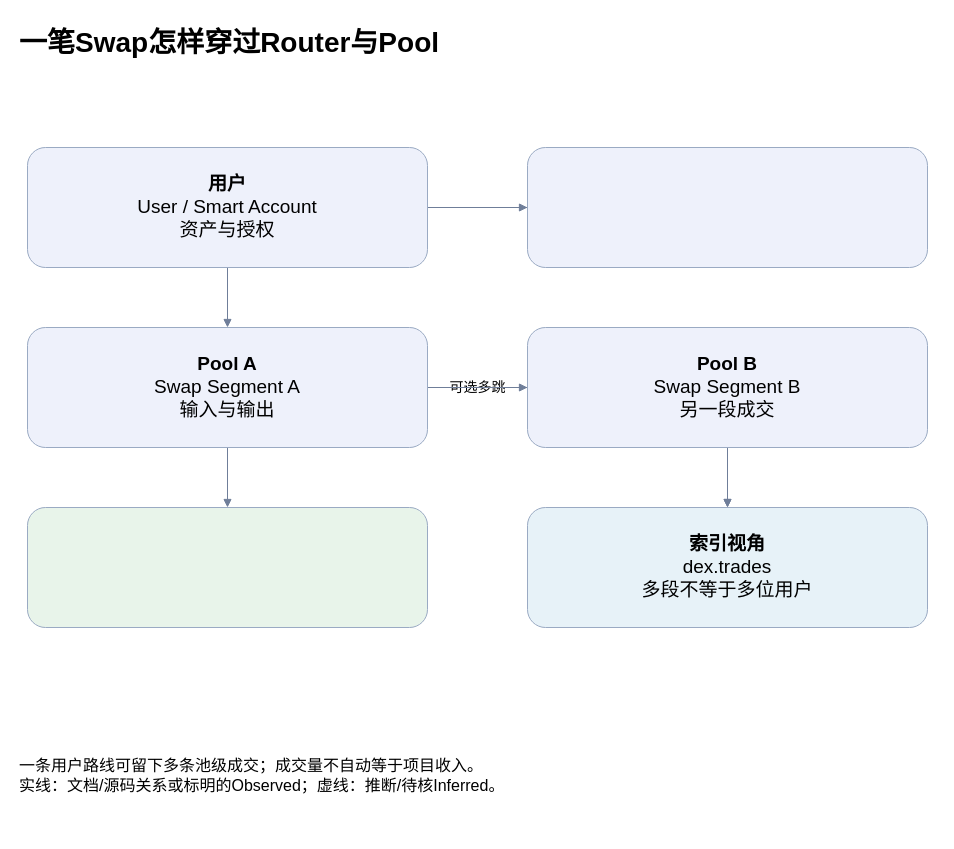
Some shapes in this 954 by 849 pixel diagram are drawn without their labels. Each missing label, with the centre of its shape:
Router Route Orchestration 可能多跳: the point at 727,207
最终接收 Final Recipient 实际到账: the point at 227,567
